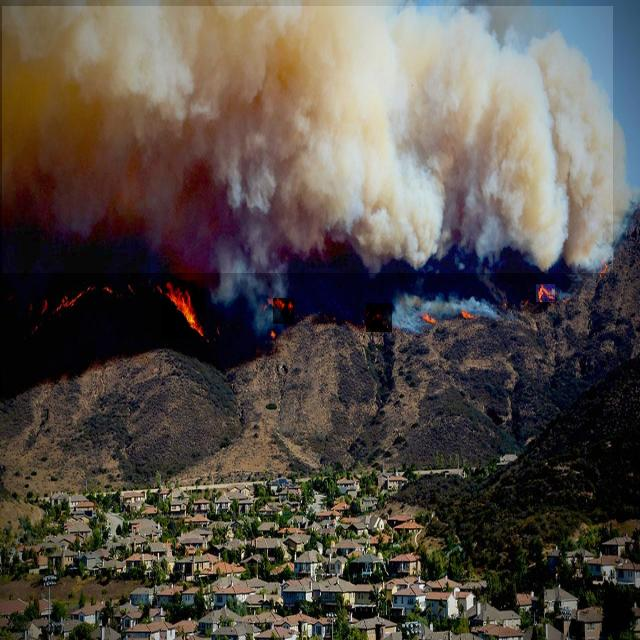Fire: (162, 280, 204, 338), (366, 303, 392, 332), (273, 298, 294, 324), (536, 284, 555, 302)
Smoke: (2, 6, 613, 273)
